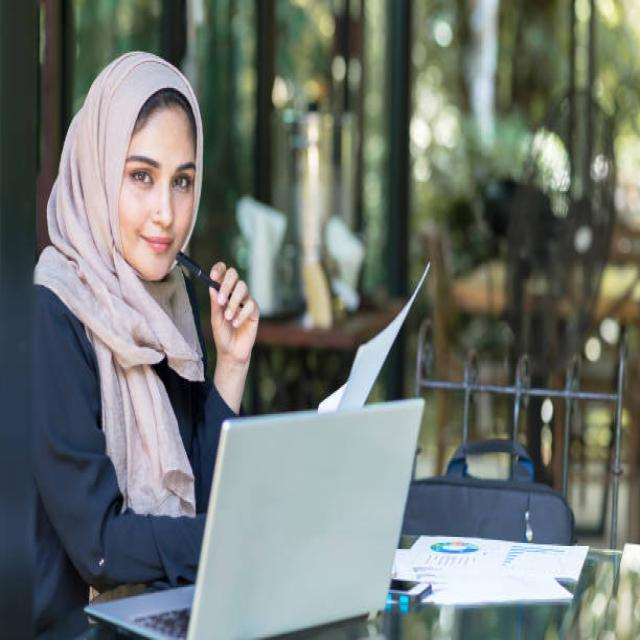human: (8, 39, 438, 640)
